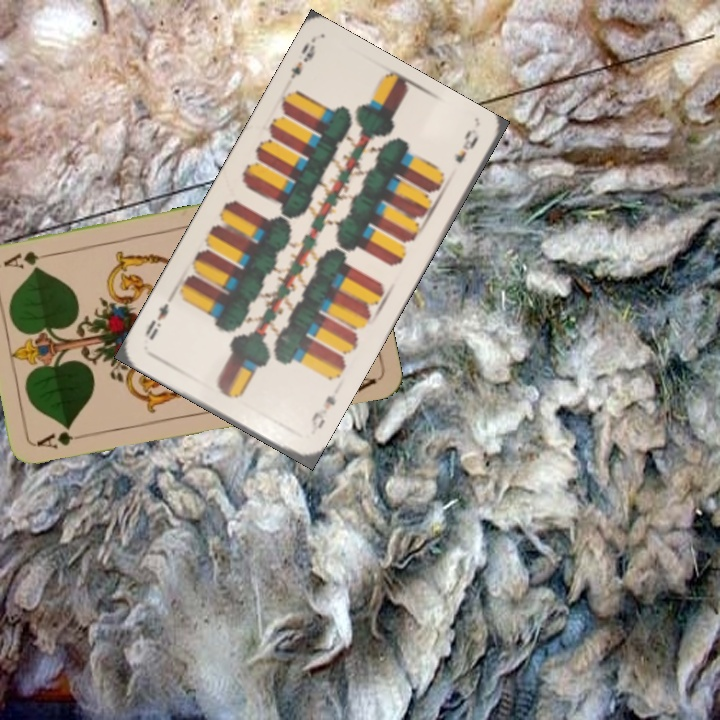E9: (306, 390, 339, 438), (286, 38, 318, 82)
GA: (33, 427, 92, 451)
